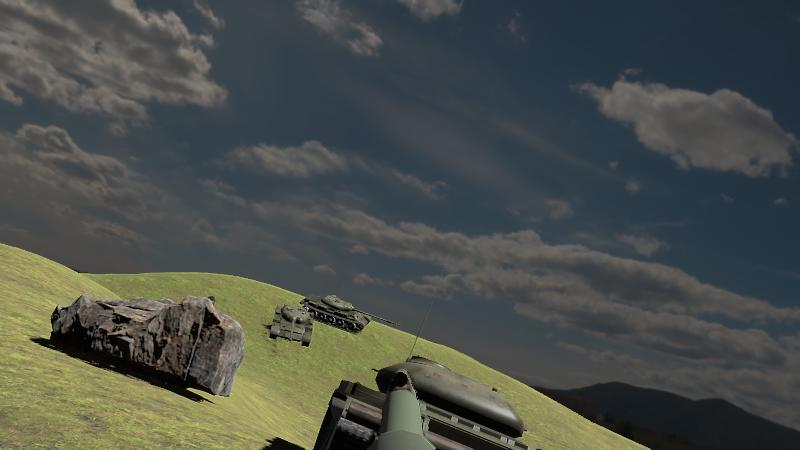Tank: (308, 355, 536, 449), (302, 294, 398, 334), (270, 300, 313, 348)
